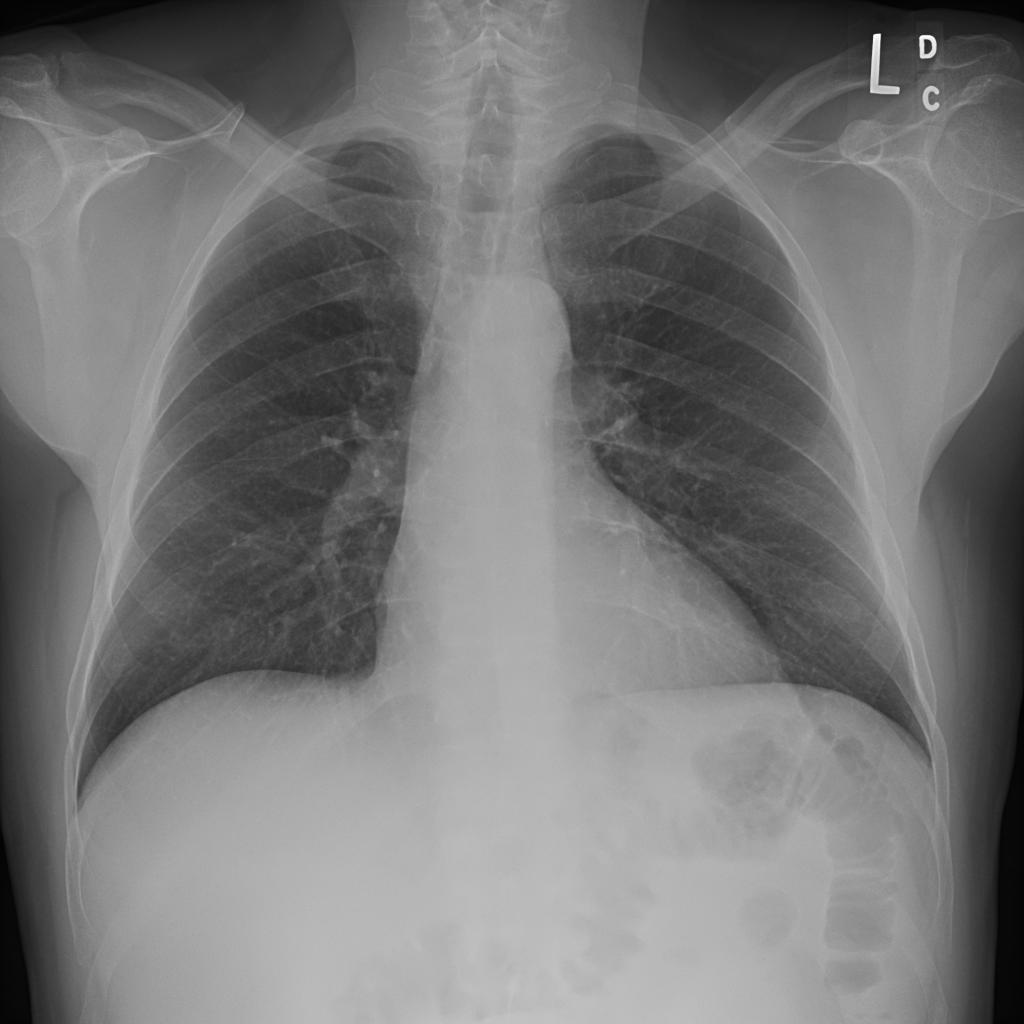Nodule: (104, 157, 140, 190)
